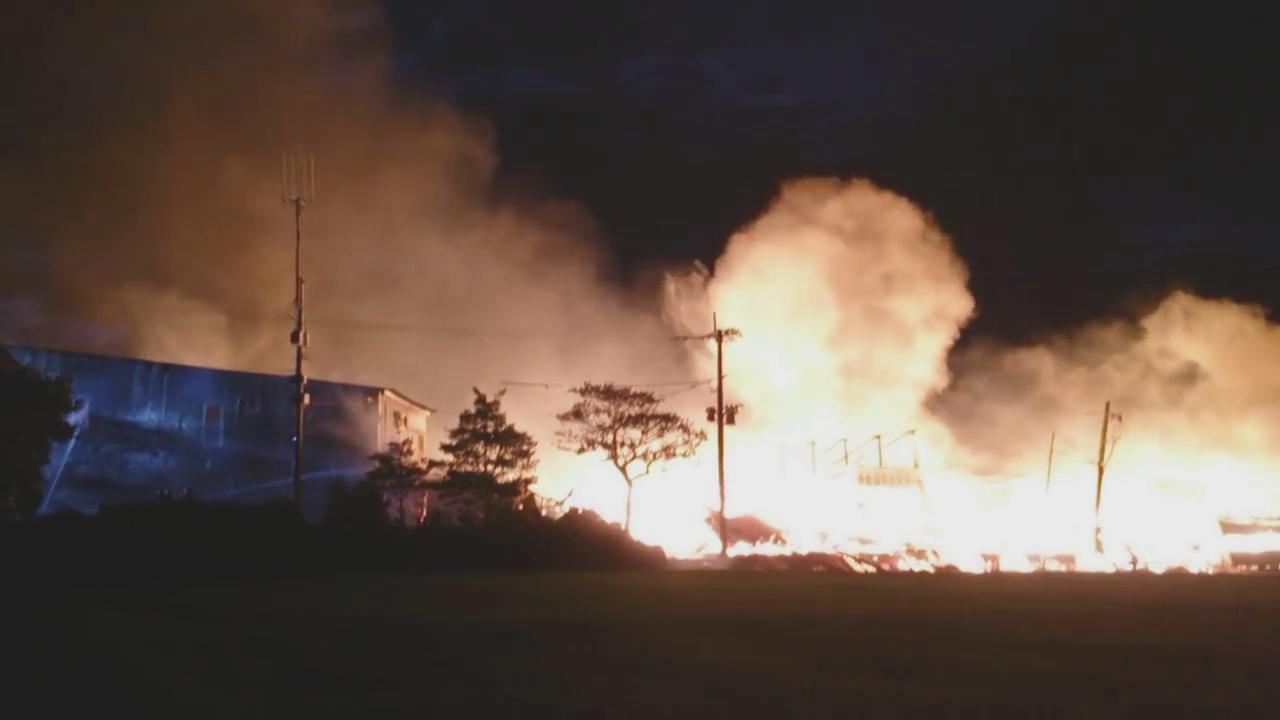Fire: (526, 423, 1279, 575)
